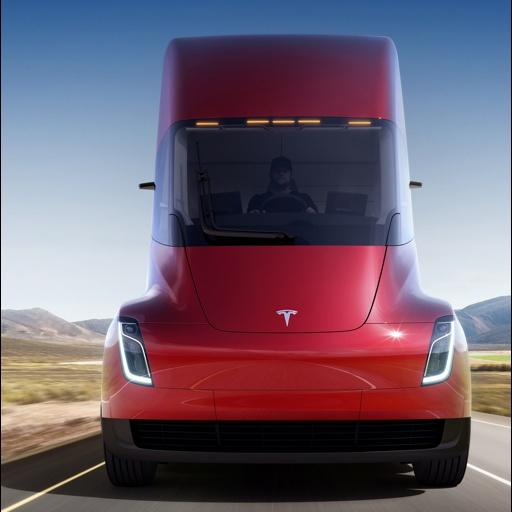truck: (101, 35, 470, 486)
